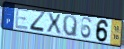6: (94, 19, 110, 43), (80, 17, 93, 41)
E: (15, 6, 31, 31)
Q: (62, 15, 78, 39)
X: (46, 12, 62, 35)
Z: (29, 8, 47, 34)
